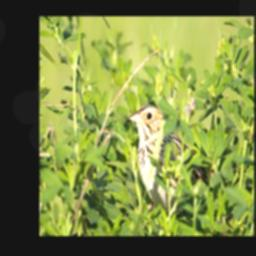Sparrow: (127, 103, 214, 222)
